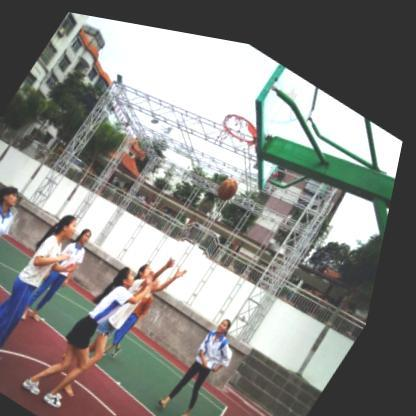basketball: (218, 163, 248, 196)
